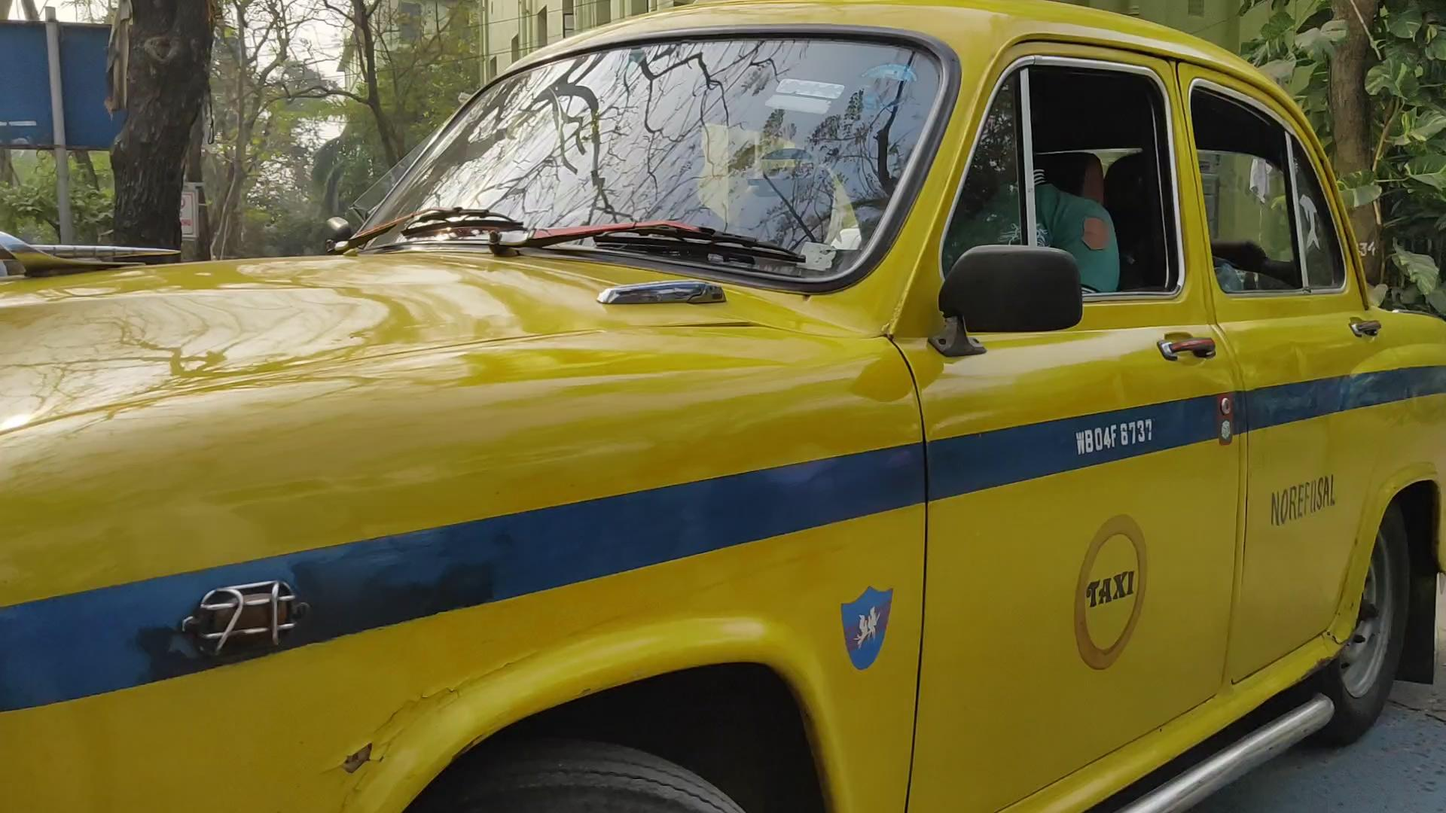car: (2, 2, 1446, 813)
